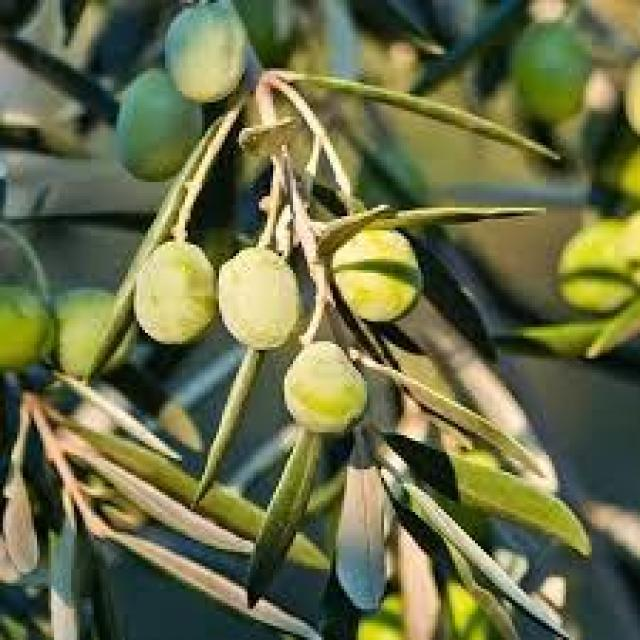Healthy: (117, 68, 202, 179), (216, 247, 302, 350), (134, 236, 215, 344), (165, 0, 251, 100), (329, 230, 421, 323), (284, 341, 367, 432)
